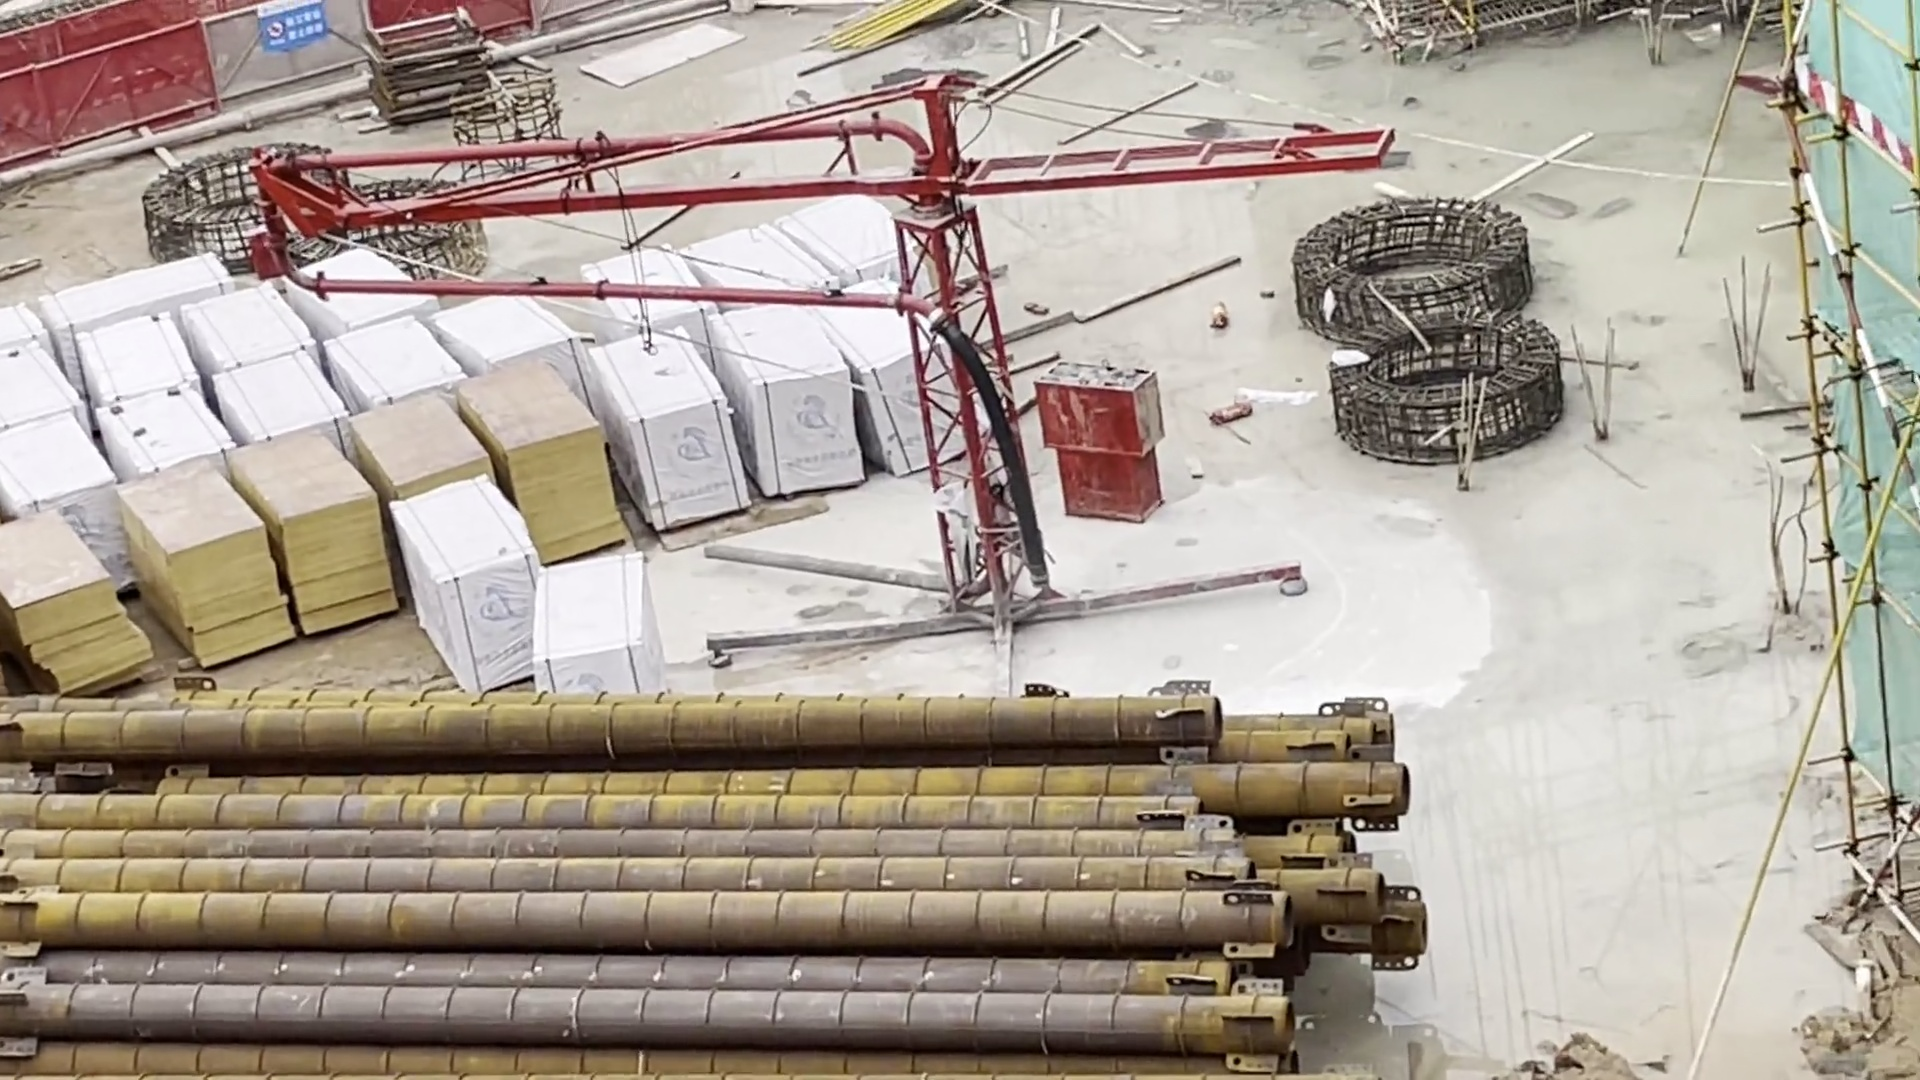board: (1, 443, 421, 688), (268, 363, 641, 570)
fence: (1, 4, 564, 167)
slogan: (235, 1, 348, 61)
